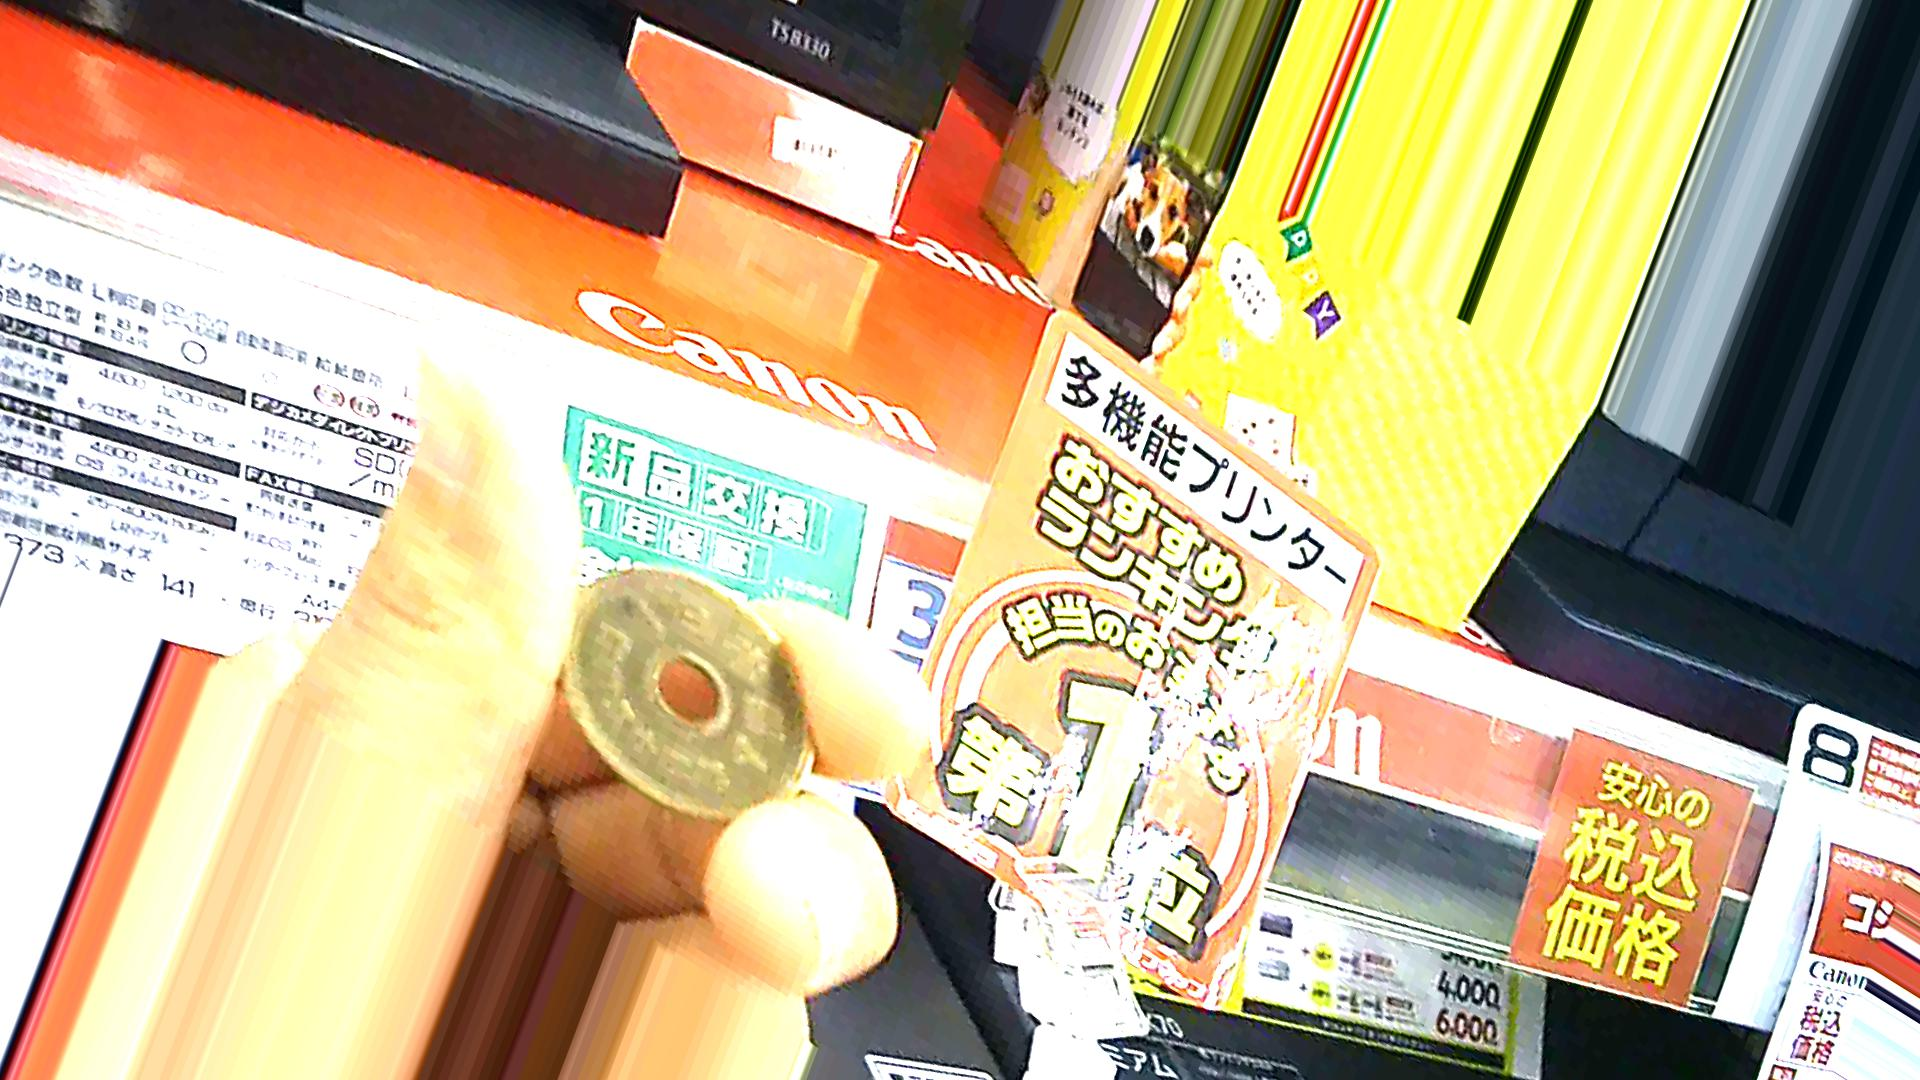5 Yen: (549, 564, 819, 815)
